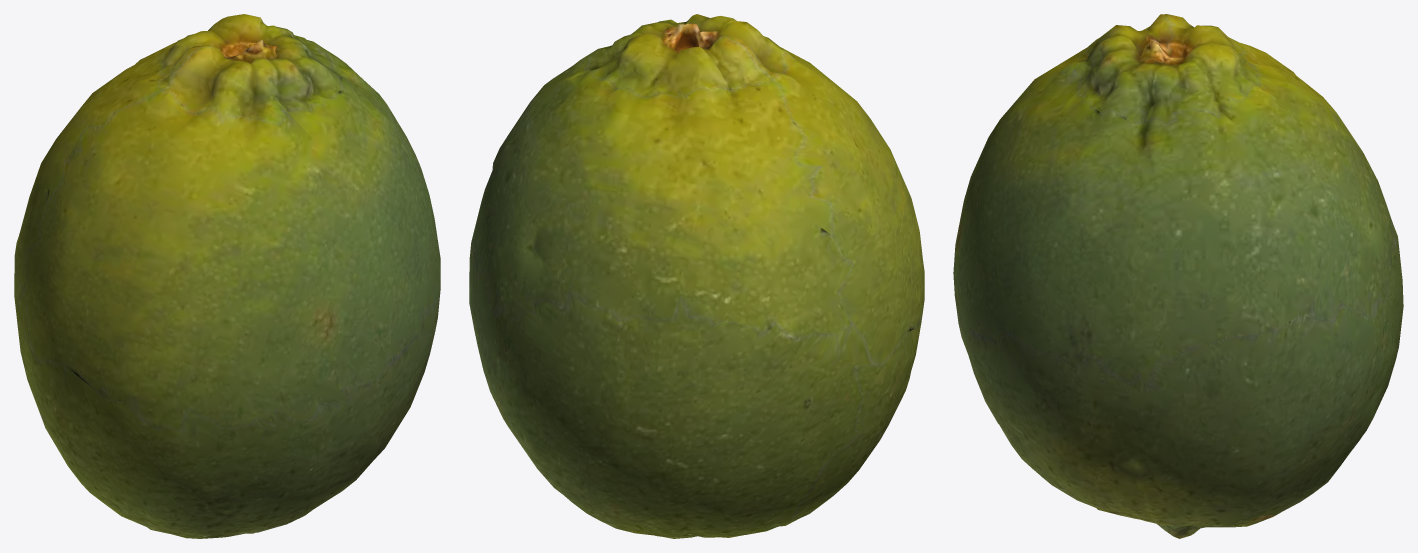
The model's file is food_lime_01.glb.
The picture shows the model from 3 angles, left to right: view 1: azimuth 30°, elevation 25°; view 2: azimuth 150°, elevation 25°; view 3: azimuth 270°, elevation 25°; orthographic projection.
Parts seen in each view (by area): view 1: food_lime_01; view 2: food_lime_01; view 3: food_lime_01.
Part boxes in pixels (<box>): food_lime_01: <box>14,14,440,538</box>; food_lime_01: <box>469,14,924,538</box>; food_lime_01: <box>953,14,1403,538</box>.
Bounding box in the file's own units: 0.0601 × 0.0754 × 0.0613.
Materials: 1 (1 with a texture image).
